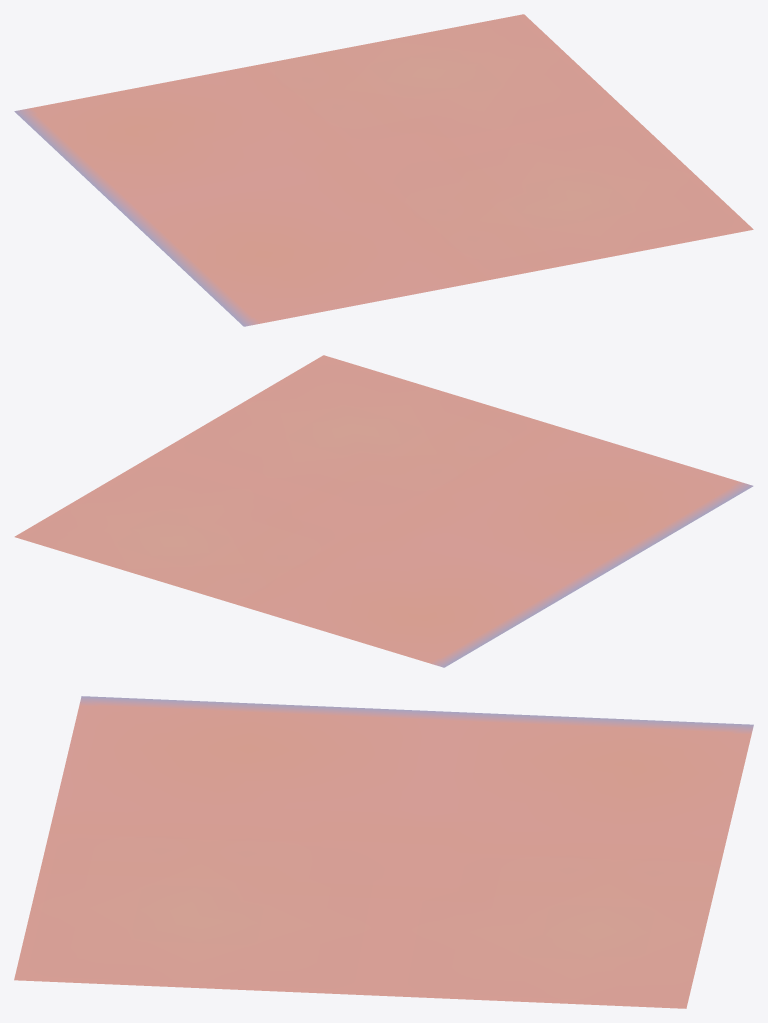
Rendered from Floor #1054922.fbx.
3 views of the same model, one above another, from view 1: azimuth 30°, elevation 25°; view 2: azimuth 150°, elevation 25°; view 3: azimuth 270°, elevation 25° (orthographic). The views are drawn at different scales.
Parts seen in each view (by area): view 1: Floor; view 2: Floor; view 3: Floor.
Part boxes in pixels (x1=…): Floor: x1=14, y1=14, x2=753, y2=326; Floor: x1=14, y1=355, x2=753, y2=667; Floor: x1=14, y1=696, x2=753, y2=1008.
Bounding box in the file's own units: 2409 × 0 × 2409.
